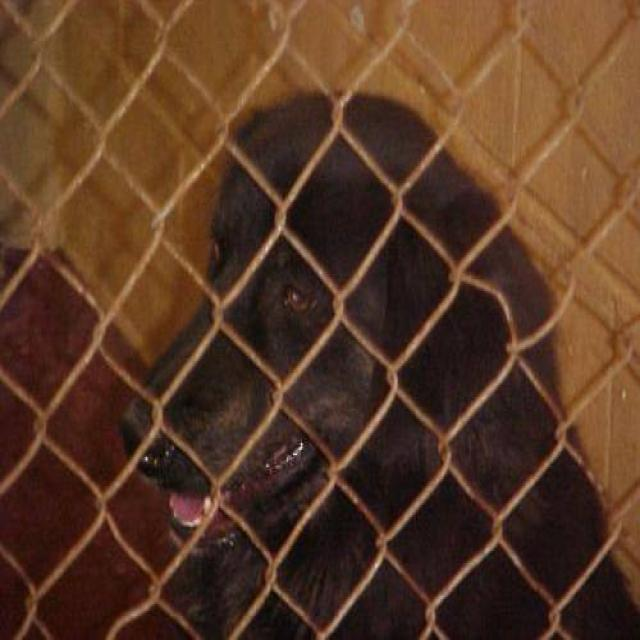dog: (117, 87, 638, 638)
